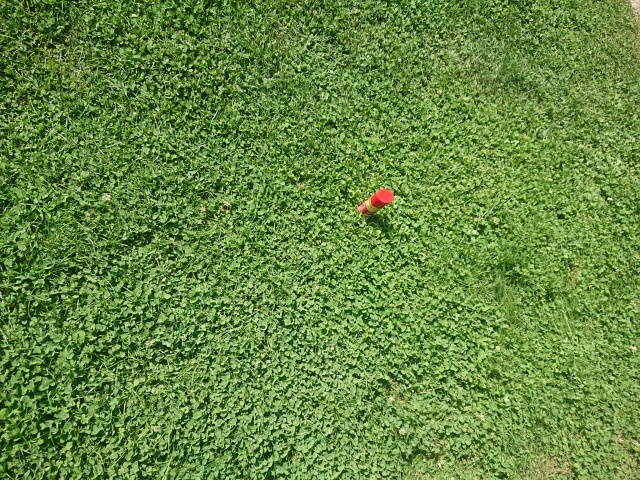Kotanyi Curry Spices Mix 70g: (355, 187, 394, 219)
